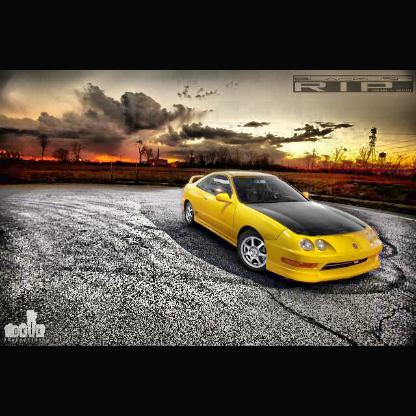Acura Integra Type R 2001: (185, 170, 386, 288)
